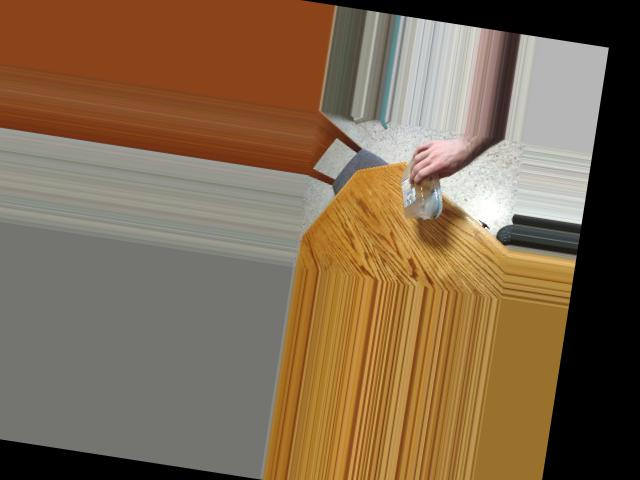cheese: (396, 141, 457, 211)
